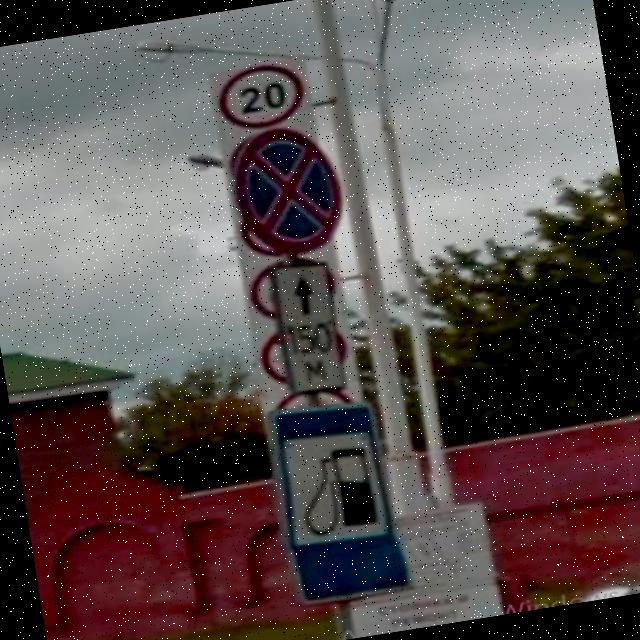Ograniczenie predkosci do 20: (215, 57, 310, 134)
Zakaz zatrzymywania sie: (225, 119, 352, 265)
